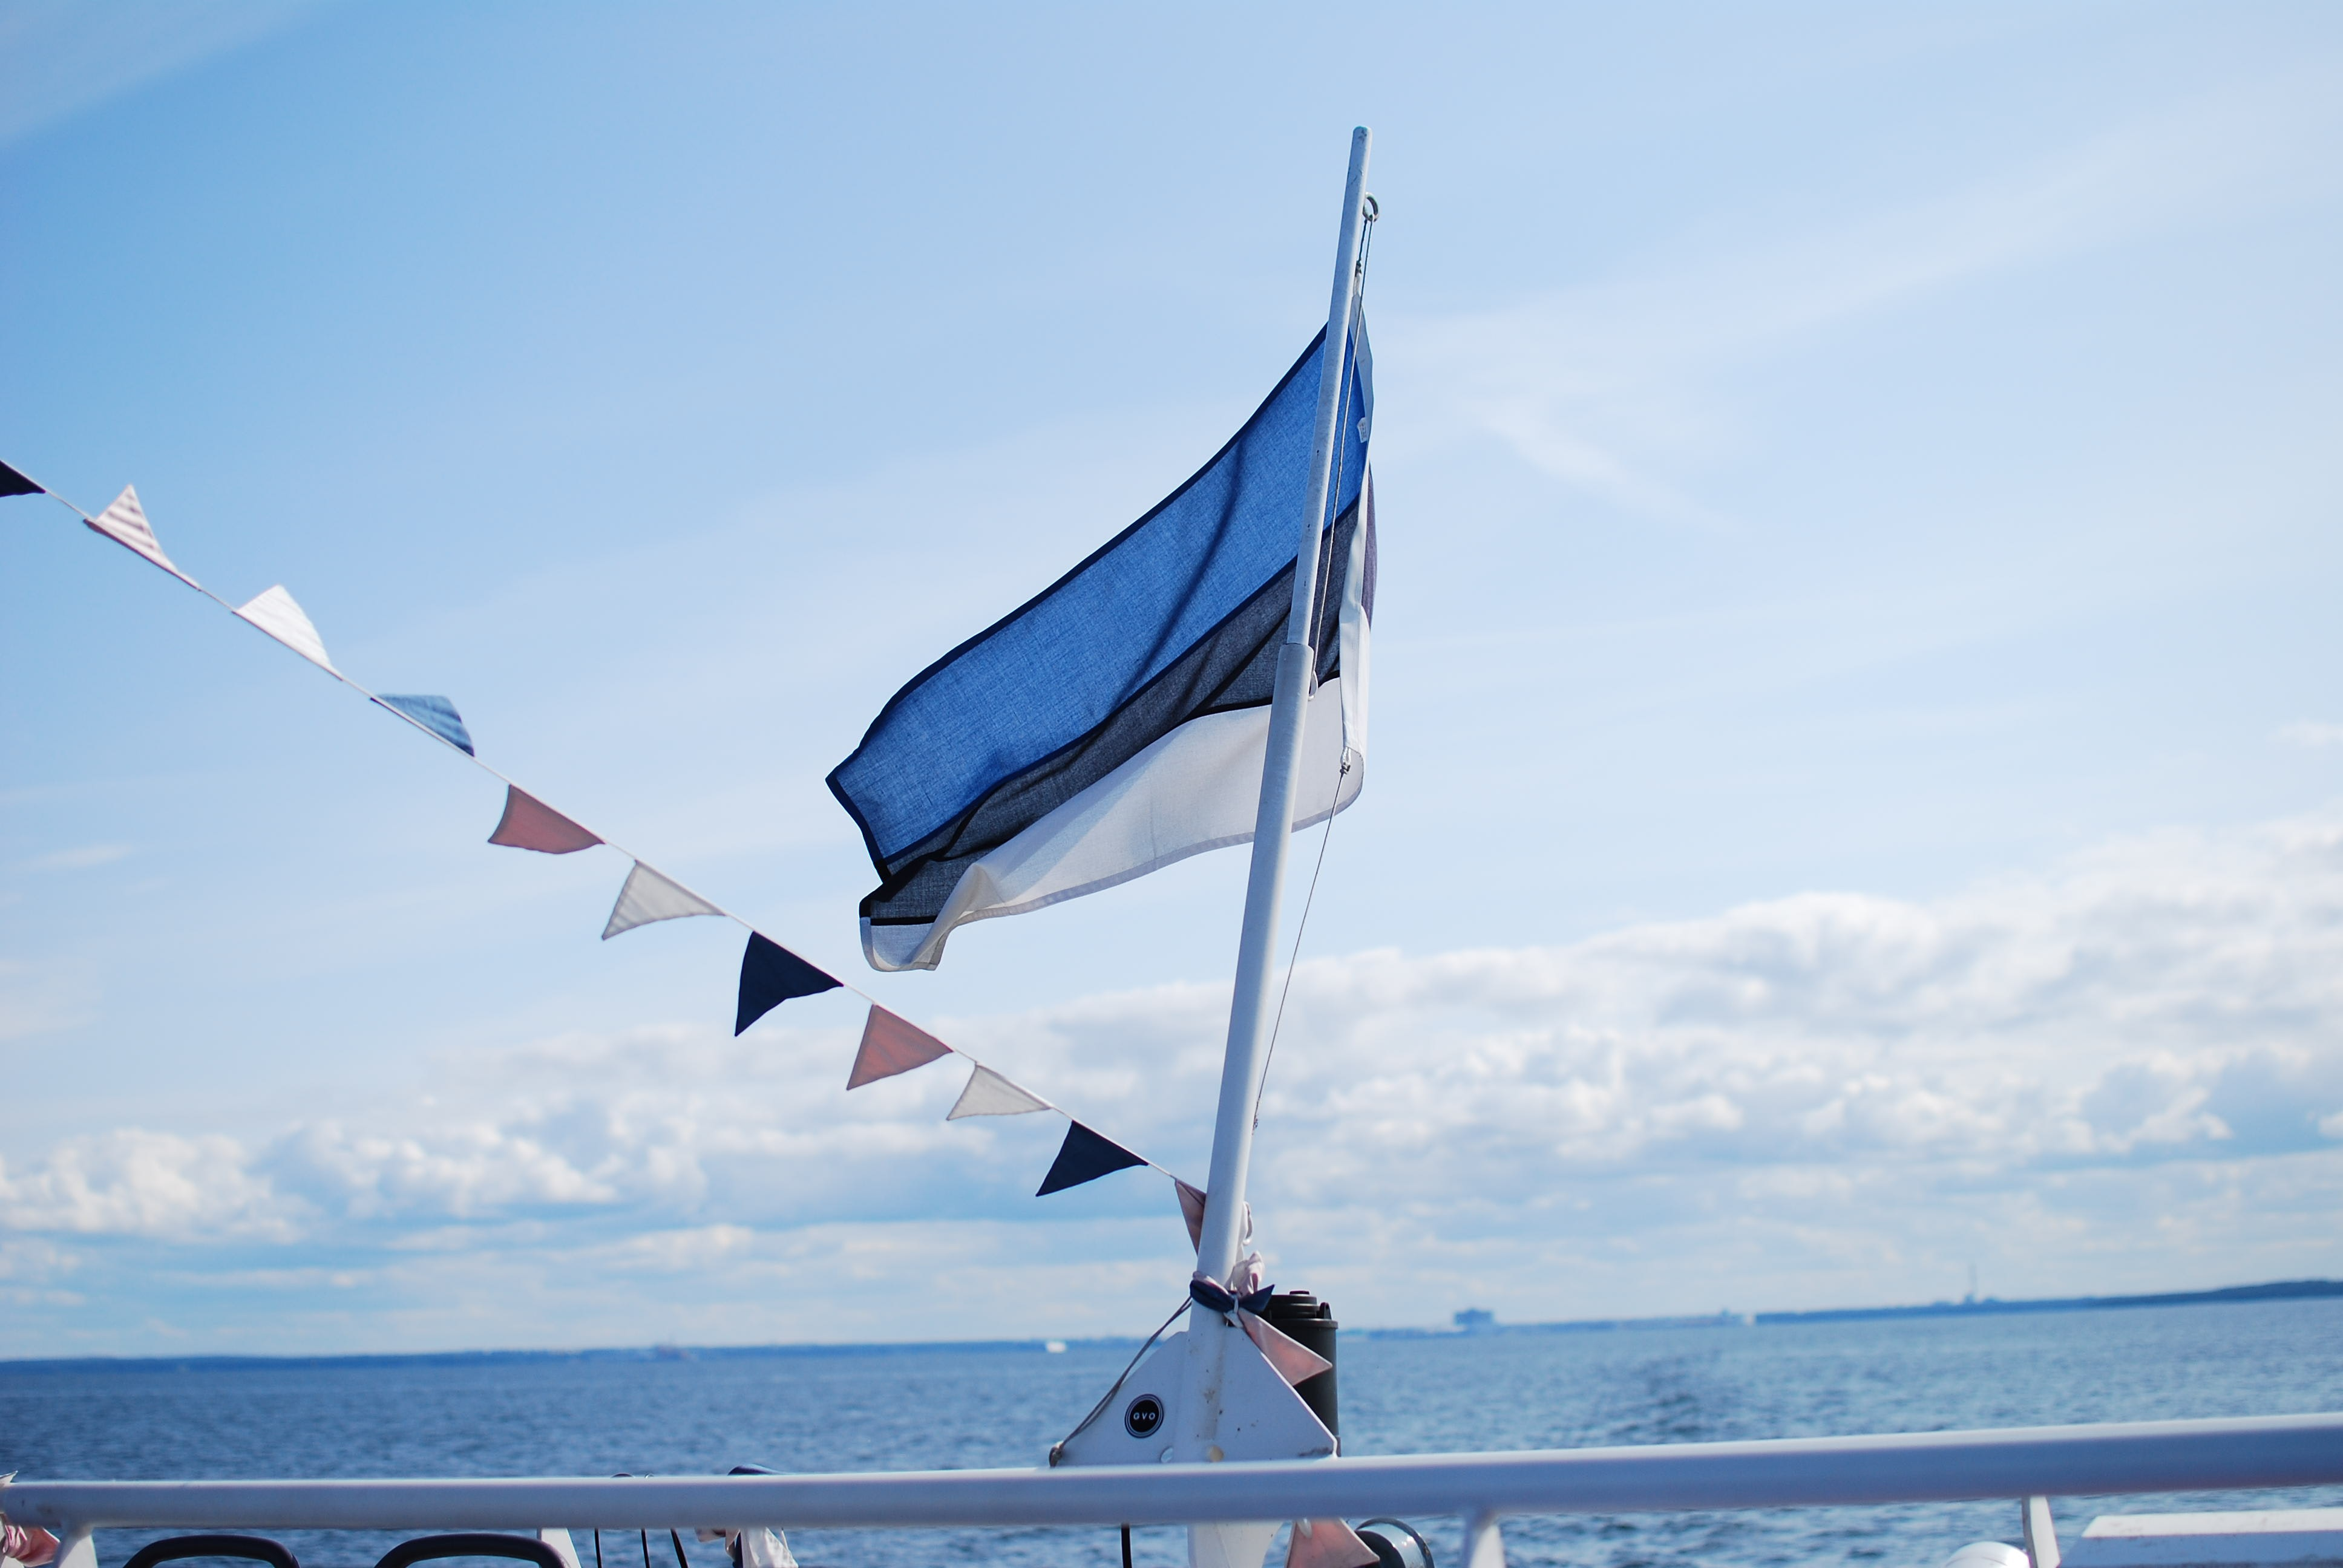Flag: (821, 301, 1377, 980)
